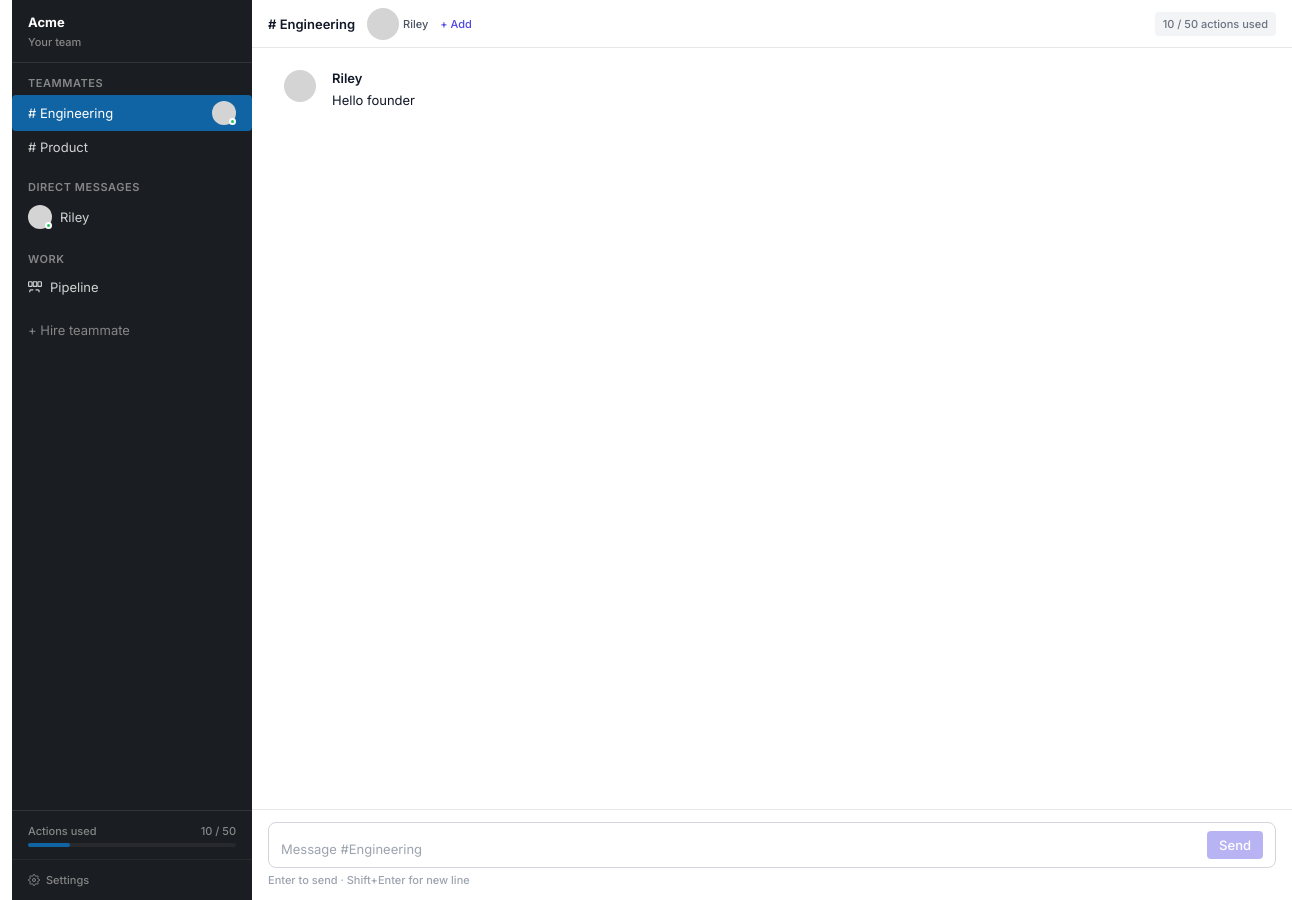
WorkspaceShell — channel switching › updates the header channel name after switching
Click the button with test id "channel-ch-2" at (132, 147), box [12, 131, 252, 163]
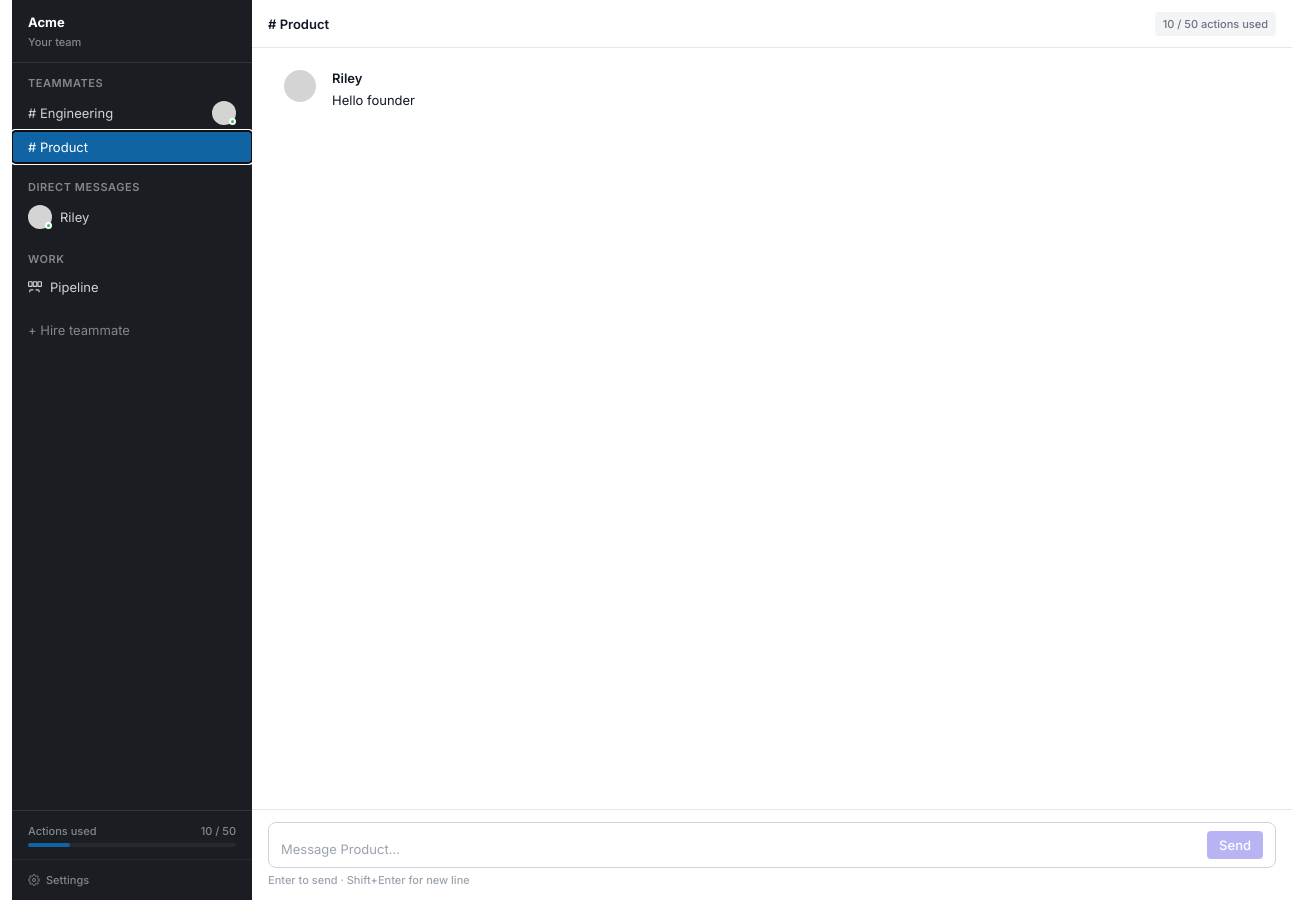
expect the heading "# Product" is shown: met, box [268, 14, 329, 34]
